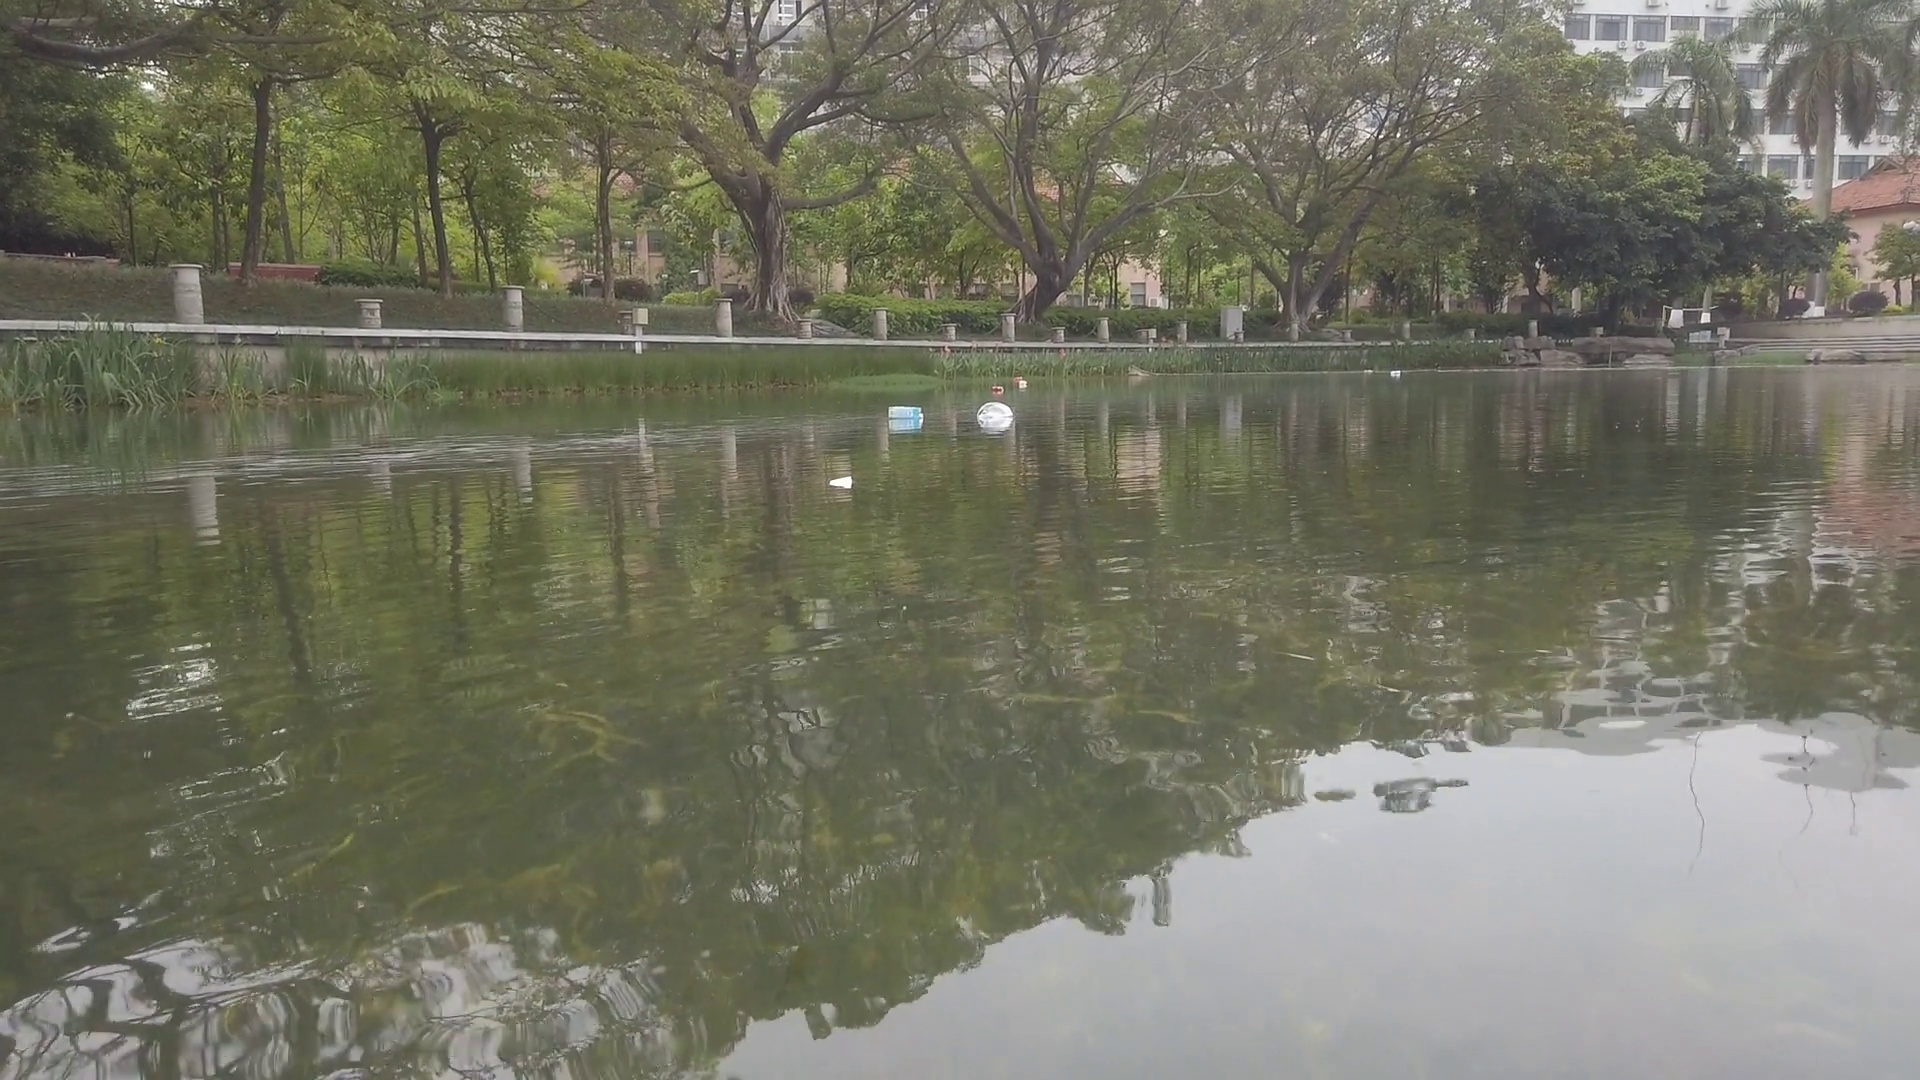bottle: (1390, 369, 1399, 378), (1362, 367, 1371, 376), (993, 386, 1005, 392), (1015, 375, 1023, 381)
carton: (889, 406, 924, 419), (831, 477, 853, 488), (1021, 380, 1027, 386)
plastic: (977, 404, 1014, 421)
